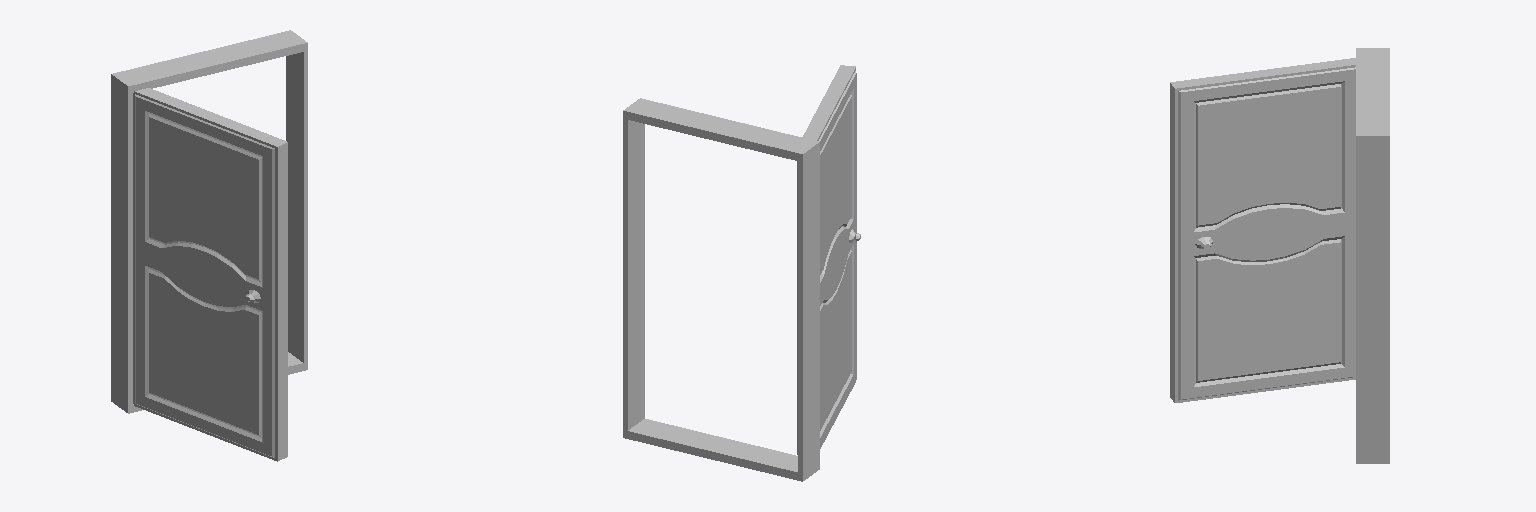
File: drzwiok_000013.obj
3 renders of one model, left to right at view 1: azimuth 30°, elevation 25°; view 2: azimuth 150°, elevation 25°; view 3: azimuth 270°, elevation 25°, orthographic.
Parts seen in each view (by area): view 1: Door_4.001_Cube.001, Kostka; view 2: Kostka, Door_4.001_Cube.001; view 3: Door_4.001_Cube.001, Kostka.
Boxes of the visible parts, x1,y1,x2,y2 form: Door_4.001_Cube.001: [133, 88, 287, 461]; Kostka: [111, 30, 307, 413]; Kostka: [623, 98, 819, 481]; Door_4.001_Cube.001: [797, 65, 860, 454]; Door_4.001_Cube.001: [1170, 58, 1355, 402]; Kostka: [1356, 48, 1389, 463].
Size of the model in its own units: 0.7416 by 1.29 by 0.7853.